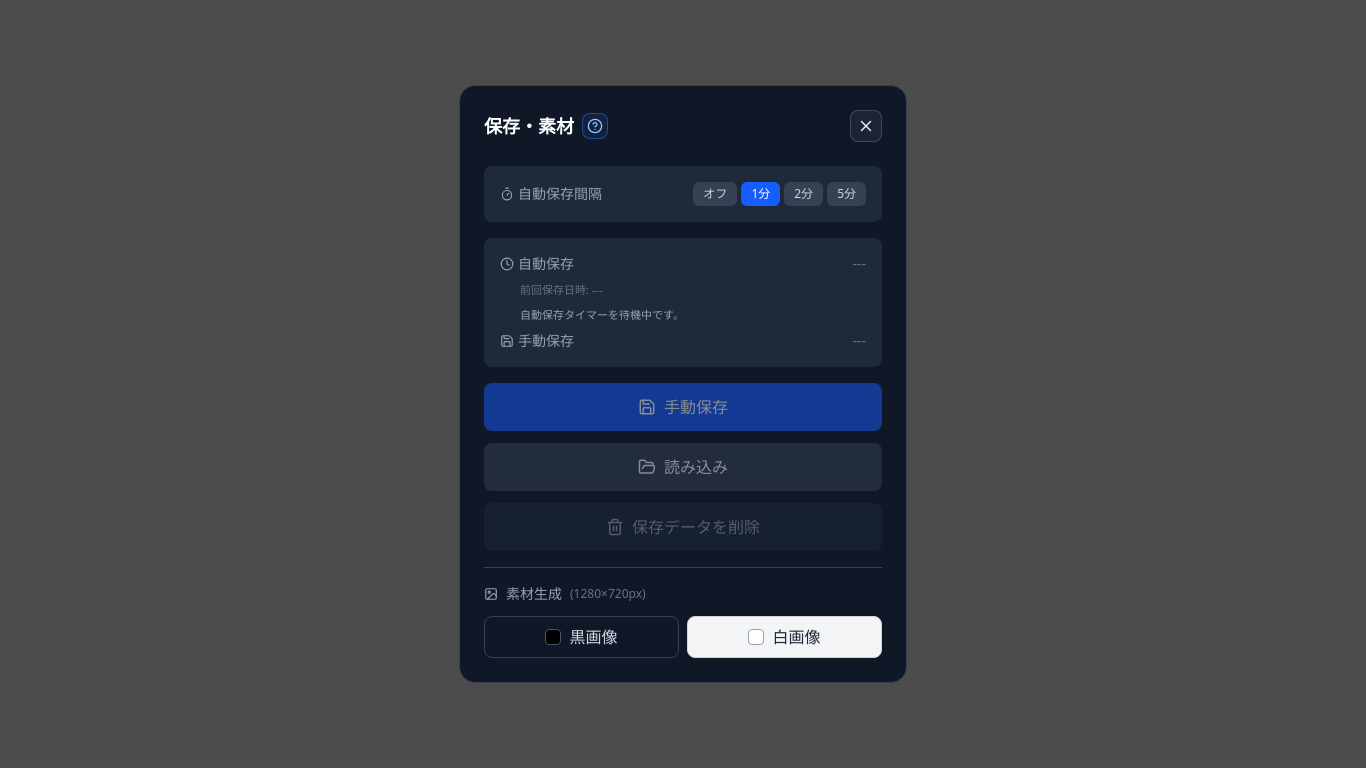
Test: modal history stability › SaveLoadModal は apple-safari flavor で Safari 向け保存案内を表示する
Click the button named "保存・素材の説明": (595, 126) [582, 113, 608, 139]
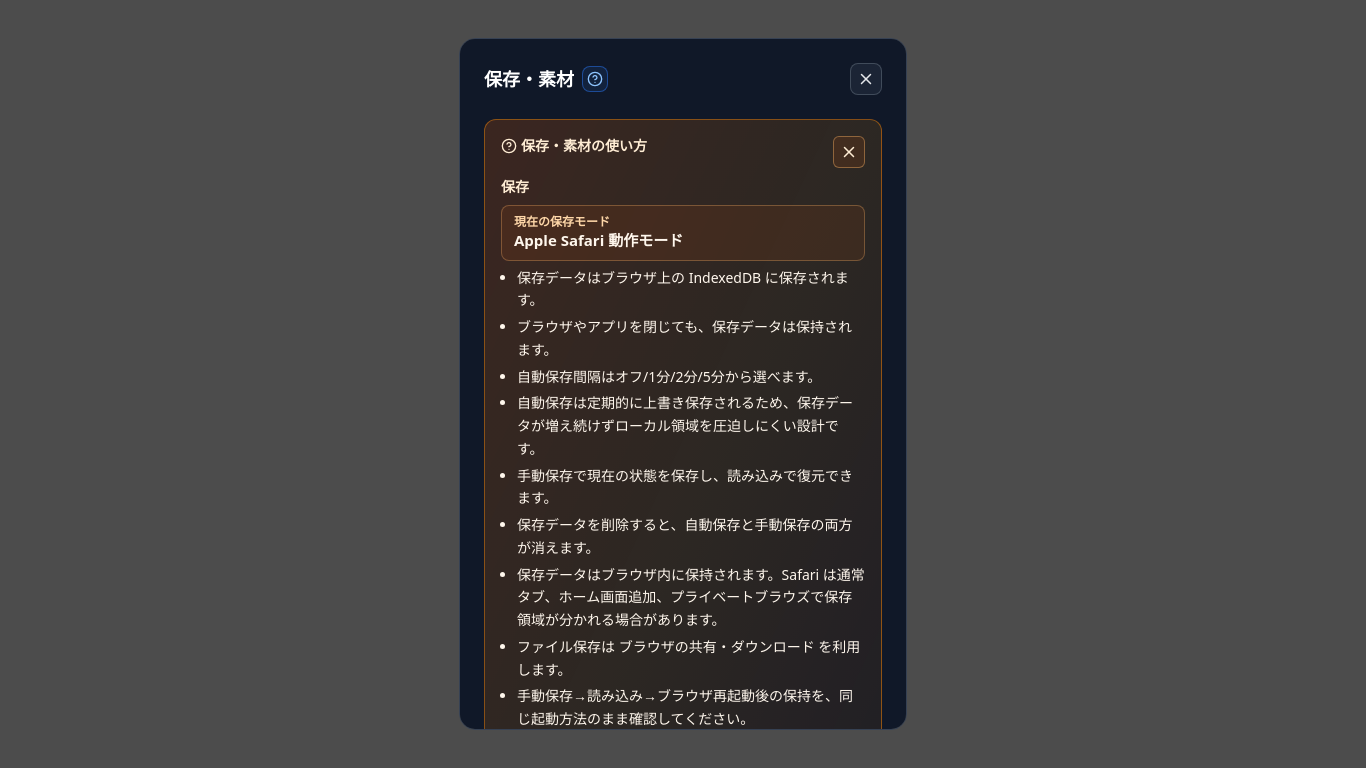
Expected: the text "Apple Safari 動作モード" is shown, [514, 230, 683, 250]
Expected: the list item "通常タブ、ホーム画面追加、プライベートブラウズ" is shown, [517, 565, 865, 629]
